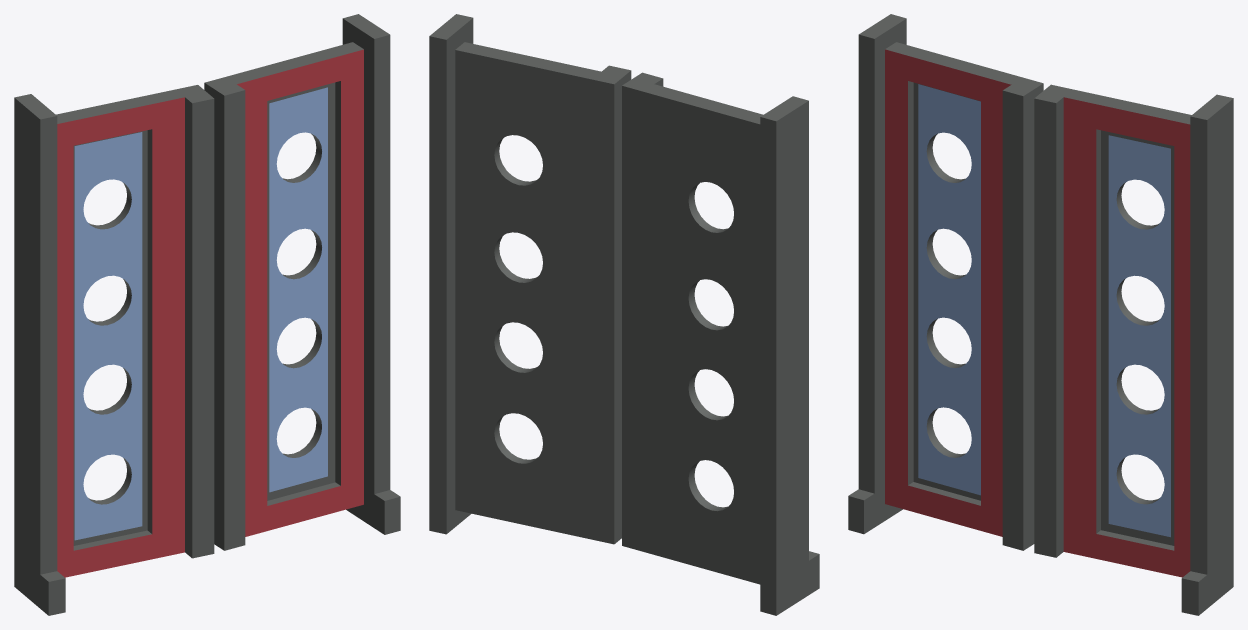
Rendered from Ship1_Window.fbx.
3 renders of one model, left to right at view 1: azimuth 30°, elevation 25°; view 2: azimuth 150°, elevation 25°; view 3: azimuth 330°, elevation 25°, orthographic.
Visible parts, largest first — view 1: Model; view 2: Model; view 3: Model.
Part boxes in pixels (box(x1,y1,x2,y2)): Model: box(14, 14, 400, 615); Model: box(429, 14, 819, 615); Model: box(848, 14, 1233, 615).
Size of the model in its own units: 182 by 242 by 35.64.
